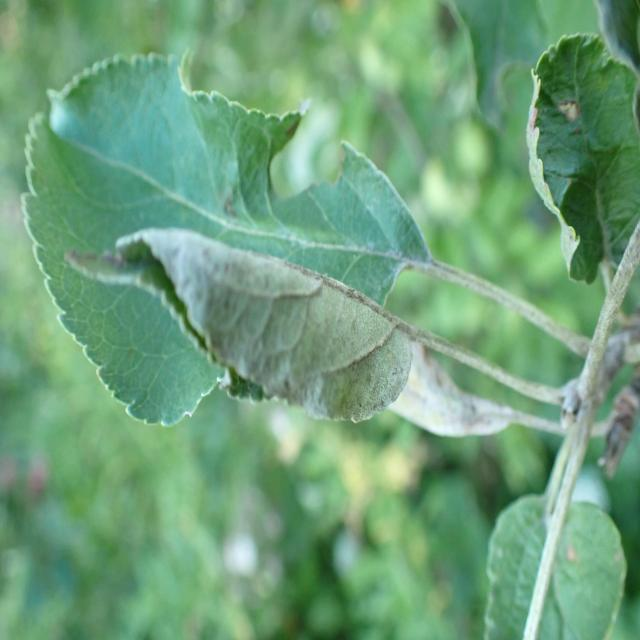Powdery_mildew: (96, 211, 419, 437)
